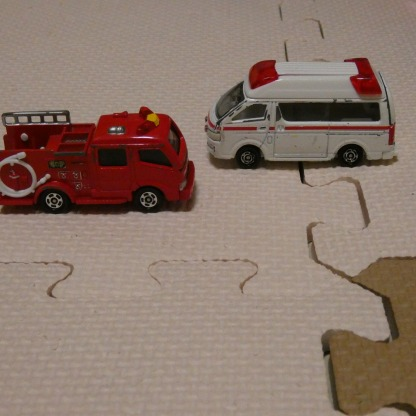car: (208, 61, 399, 164), (2, 112, 197, 209)
